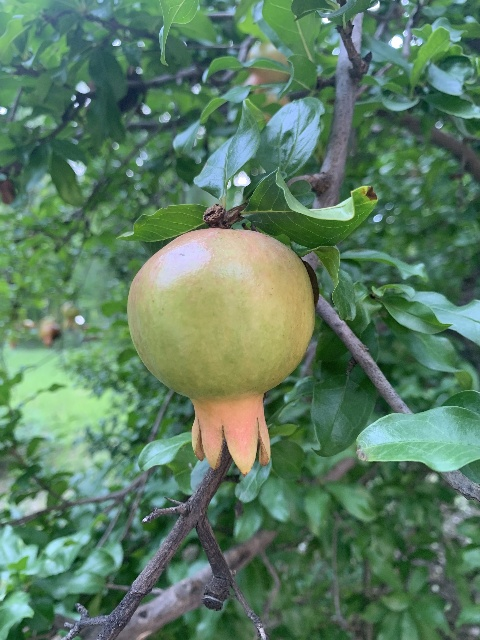mid-growth: (125, 226, 315, 473), (243, 40, 290, 93)
